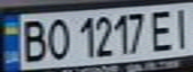1: (72, 14, 96, 58), (112, 11, 133, 55)
2: (93, 12, 115, 57)
7: (127, 9, 151, 54)
B: (15, 16, 51, 63)
E: (148, 7, 178, 52)
I: (169, 4, 193, 50)
O: (42, 15, 72, 62)
